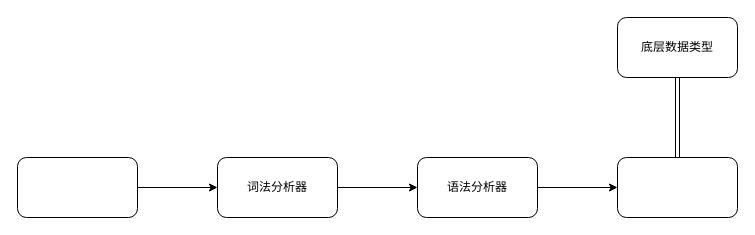
Some shapes in this 755 by 235 pixel diagram are drawn without their labels. The shapes that lost their labels are listed below. From the top down, each one's box as (x1, y1, x2, y2) in pixels, then its label:
(16, 156, 138, 218): 过滤器
(616, 156, 738, 218): 语义执行器
